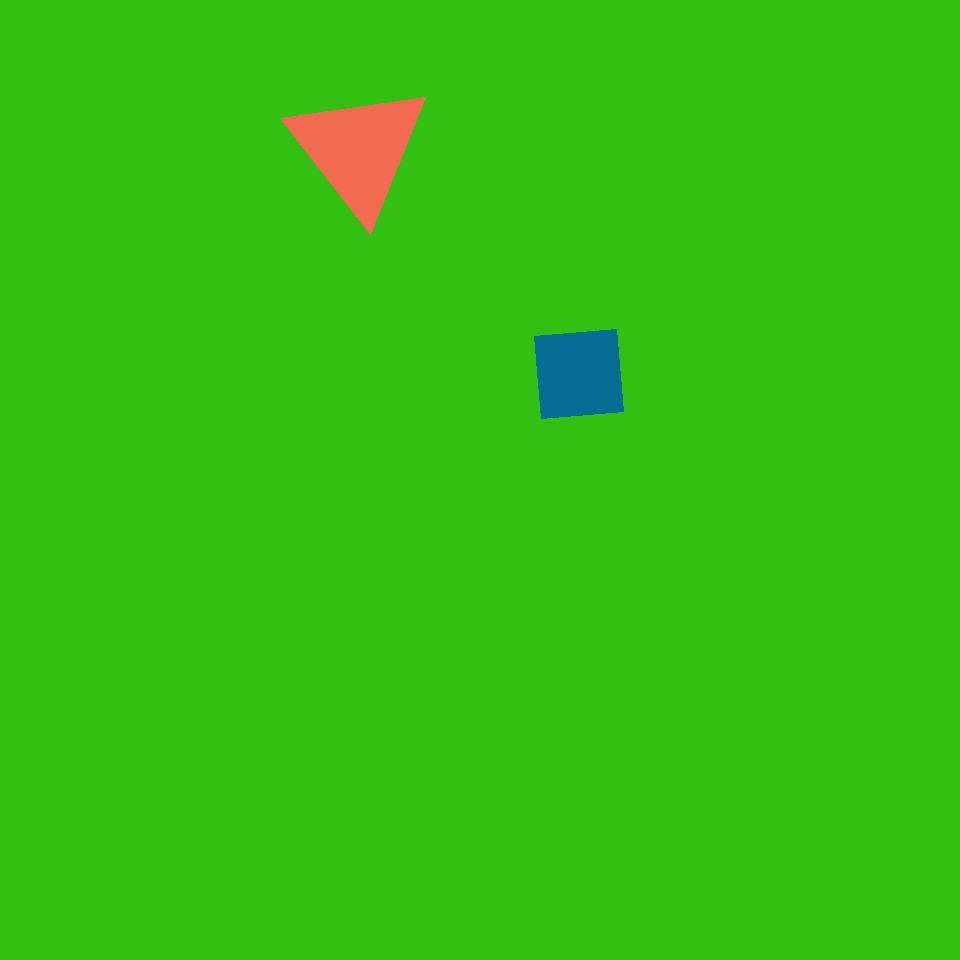circle: (194, 145, 497, 427), (286, 82, 432, 218)
square: (421, 9, 650, 237), (498, 581, 723, 805), (162, 446, 329, 613), (534, 330, 624, 418)
triangle: (697, 737, 862, 902)
